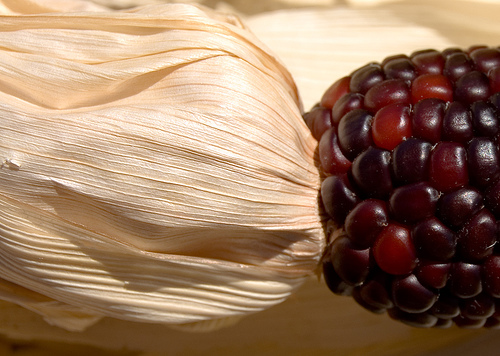corn: (299, 41, 498, 331)
